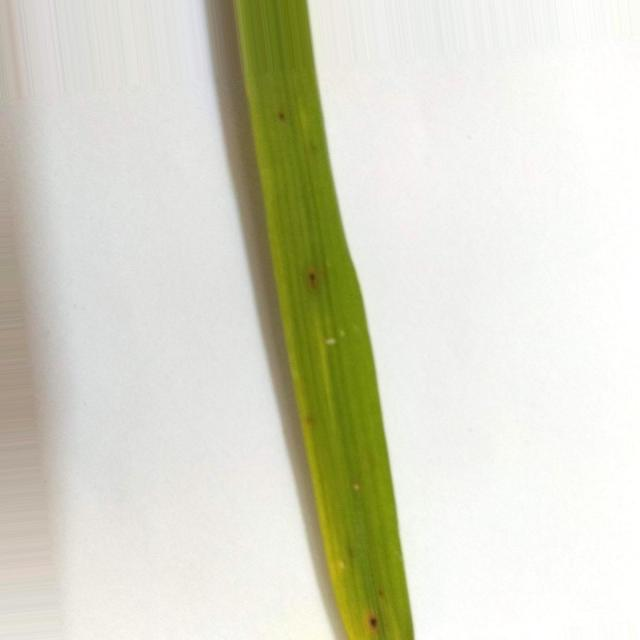Brown_Spot: (308, 266, 320, 290), (368, 615, 379, 631), (278, 109, 286, 121)
